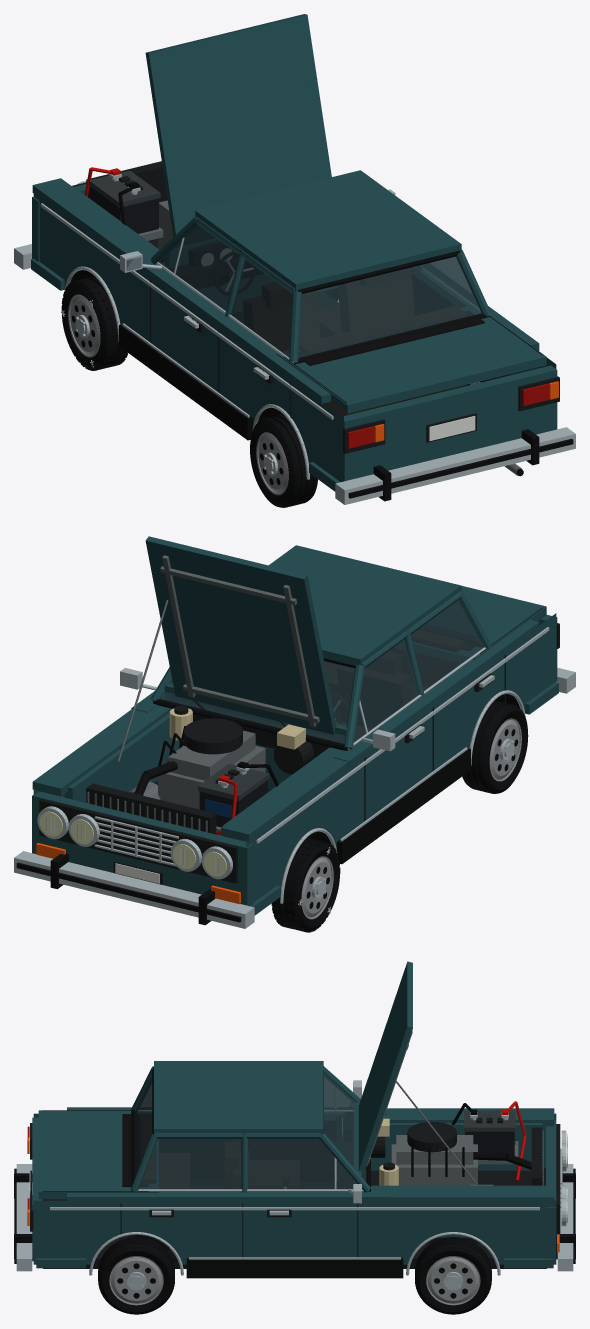
The model's file is SedanModel.obj.
The picture shows the model from 3 angles, top to bottom: view 1: azimuth 30°, elevation 25°; view 2: azimuth 150°, elevation 25°; view 3: azimuth 270°, elevation 25°; orthographic projection. The views are drawn at different scales.
Parts seen in each view (by area): view 1: Hood_0720, Roof_0552, Trunk_0535, RearPanel_0534, RearGlass_0562, Bumper_0542, FrontDoorWindow_0574, Shoulder_0116, RearDoorWindow_0575, FrontFenderTop_0115, FrontSeatBack_0613, Rocker_0003 (+31 smaller); view 2: Hood_0720, Roof_0552, FrontPanel_0495, Bumper_0538, FrontFenderTop_0115, RearDoorWindow_0575, InnerWing_0661, FrontFenderTop_0396, FrontDoorWindow_0574, Shoulder_0116, GrilleRecess_0496, Trunk_0535 (+40 smaller); view 3: Roof_0552, Trunk_0535, RearDoorWindow_0589, FrontDoorWindow_0588, Hood_0720, Rocker_0284, FenderSide_0317, FenderSide_0318, DoorCard_0605, Shoulder_0397, FrontFenderTop_0396, Tire_0407 (+42 smaller).
Part boxes in pixels (<box>): Hood_0720: <box>145,14,331,236</box>; Roof_0552: <box>195,170,461,291</box>; Trunk_0535: <box>276,306,546,413</box>; RearPanel_0534: <box>338,365,557,481</box>; RearGlass_0562: <box>298,256,481,357</box>; Bumper_0542: <box>335,427,575,504</box>; FrontDoorWindow_0574: <box>159,225,238,310</box>; Shoulder_0116: <box>138,253,330,404</box>; RearDoorWindow_0575: <box>230,259,292,357</box>; FrontFenderTop_0115: <box>32,178,168,268</box>; FrontSeatBack_0613: <box>338,268,414,333</box>; Rocker_0003: <box>119,324,253,440</box>; Hood_0720: <box>145,536,336,737</box>; Roof_0552: <box>269,545,461,665</box>; FrontPanel_0495: <box>32,791,253,906</box>; Bumper_0538: <box>14,851,254,928</box>; FrontFenderTop_0115: <box>221,747,348,841</box>; RearDoorWindow_0575: <box>410,600,483,690</box>; InnerWing_0661: <box>64,713,178,802</box>; FrontFenderTop_0396: <box>32,705,172,796</box>; FrontDoorWindow_0574: <box>353,639,418,742</box>; Shoulder_0116: <box>333,620,539,768</box>; GrilleRecess_0496: <box>39,799,237,883</box>; Trunk_0535: <box>394,586,546,663</box>; Roof_0552: <box>154,1061,323,1135</box>; Trunk_0535: <box>38,1110,158,1199</box>; RearDoorWindow_0589: <box>139,1139,241,1189</box>; FrontDoorWindow_0588: <box>248,1139,357,1189</box>; Hood_0720: <box>358,961,412,1177</box>; Rocker_0284: <box>186,1258,403,1278</box>; FenderSide_0317: <box>295,1203,373,1257</box>; FenderSide_0318: <box>216,1203,294,1257</box>; DoorCard_0605: <box>159,1121,335,1172</box>; Shoulder_0397: <box>67,1190,386,1203</box>; FrontFenderTop_0396: <box>354,1185,554,1203</box>; Tire_0407: <box>415,1237,491,1314</box>.
Size of the model in its own units: 2.01 by 2.31 by 4.3.
